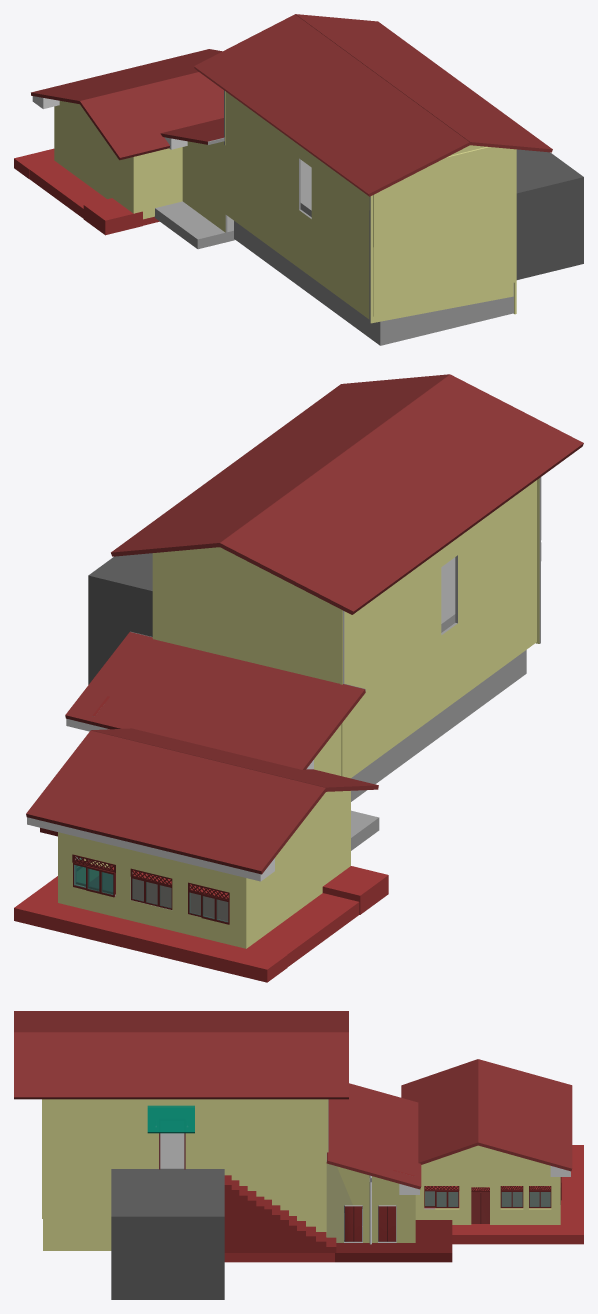
Rendered from NLH_premises.fbx.
The picture shows the model from 3 angles, top to bottom: view 1: azimuth 30°, elevation 25°; view 2: azimuth 150°, elevation 25°; view 3: azimuth 270°, elevation 25°; orthographic projection. The views are drawn at different scales.
Visible parts, largest first — view 1: pCube177, pCube188, pCube190, pCube191, pCube147, pCube151, pCube18, pCube193, pCube7, pCube17, pCube9, pCube192 (+2 smaller); view 2: pCube177, pCube147, pCube17, pCube190, pCube185, pCube191, pCube71, pCube7, pCube55, pCube192, pCube151, pCube193 (+4 smaller); view 3: pCube177, pCube147, pCube172, pCube151, pCube179, pCube17, pCube64, pCube174, pCube18, pCube168, pCube55, pCube54 (+5 smaller).
Boxes of the visible parts, bbox=[...] form: pCube177: bbox=[194, 14, 552, 196]; pCube188: bbox=[369, 145, 515, 323]; pCube190: bbox=[224, 145, 374, 321]; pCube191: bbox=[224, 115, 373, 286]; pCube147: bbox=[83, 118, 234, 249]; pCube151: bbox=[516, 149, 583, 279]; pCube18: bbox=[79, 72, 223, 160]; pCube193: bbox=[234, 160, 513, 345]; pCube7: bbox=[54, 101, 135, 213]; pCube17: bbox=[31, 49, 222, 104]; pCube9: bbox=[135, 147, 182, 219]; pCube192: bbox=[225, 91, 373, 226]; pCube177: bbox=[111, 374, 583, 614]; pCube147: bbox=[40, 631, 388, 914]; pCube17: bbox=[26, 730, 326, 874]; pCube190: bbox=[341, 552, 536, 778]; pCube185: bbox=[153, 547, 344, 684]; pCube191: bbox=[340, 513, 536, 742]; pCube71: bbox=[60, 833, 243, 948]; pCube7: bbox=[244, 791, 350, 948]; pCube55: bbox=[14, 893, 287, 982]; pCube192: bbox=[340, 480, 536, 661]; pCube151: bbox=[88, 553, 152, 684]; pCube193: bbox=[351, 557, 526, 801]; pCube177: bbox=[14, 1011, 348, 1099]; pCube147: bbox=[326, 1083, 452, 1262]; pCube172: bbox=[43, 1111, 328, 1196]; pCube151: bbox=[111, 1169, 224, 1299]; pCube179: bbox=[43, 1099, 328, 1136]; pCube17: bbox=[477, 1059, 572, 1171]; pCube64: bbox=[415, 1145, 560, 1224]; pCube174: bbox=[43, 1164, 326, 1250]; pCube18: bbox=[401, 1059, 478, 1164]; pCube168: bbox=[224, 1175, 336, 1252]; pCube55: bbox=[555, 1145, 583, 1244]; pCube54: bbox=[452, 1224, 554, 1244].
Bounding box in the file's own units: 148 × 89.47 × 235.
